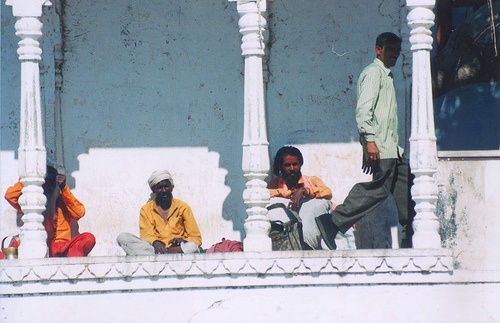head: (273, 144, 308, 189), (143, 171, 181, 210), (375, 33, 403, 69)
person: (325, 30, 401, 257), (1, 167, 95, 260), (264, 145, 333, 249), (120, 170, 202, 253)
